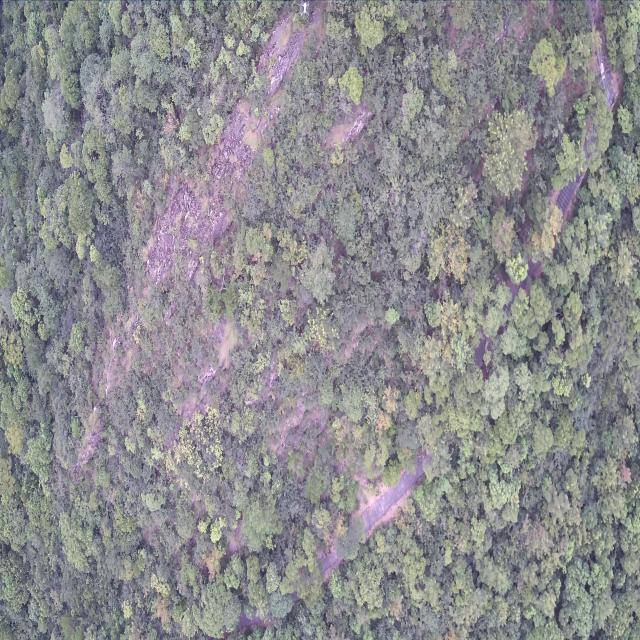drone: (300, 2, 309, 15)
